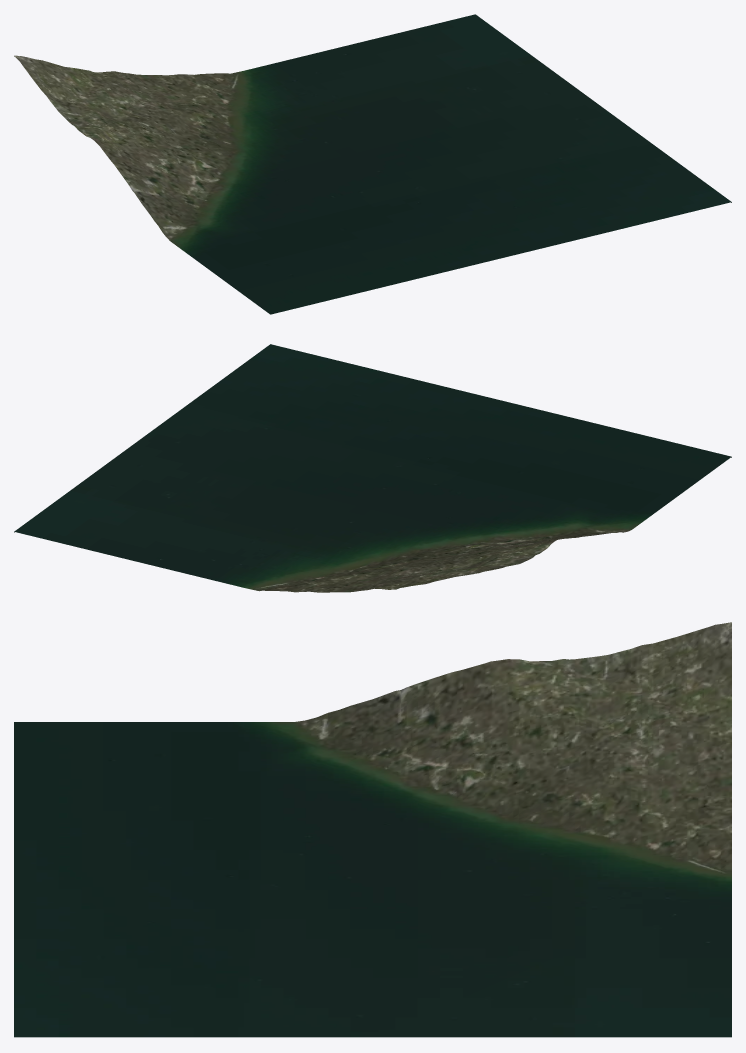
3 renders of one model, top to bottom at view 1: azimuth 30°, elevation 25°; view 2: azimuth 150°, elevation 25°; view 3: azimuth 270°, elevation 25°, orthographic. The views are drawn at different scales.
Size of the model in its own units: 500 by 75 by 481.
1 material, 1 textured.
